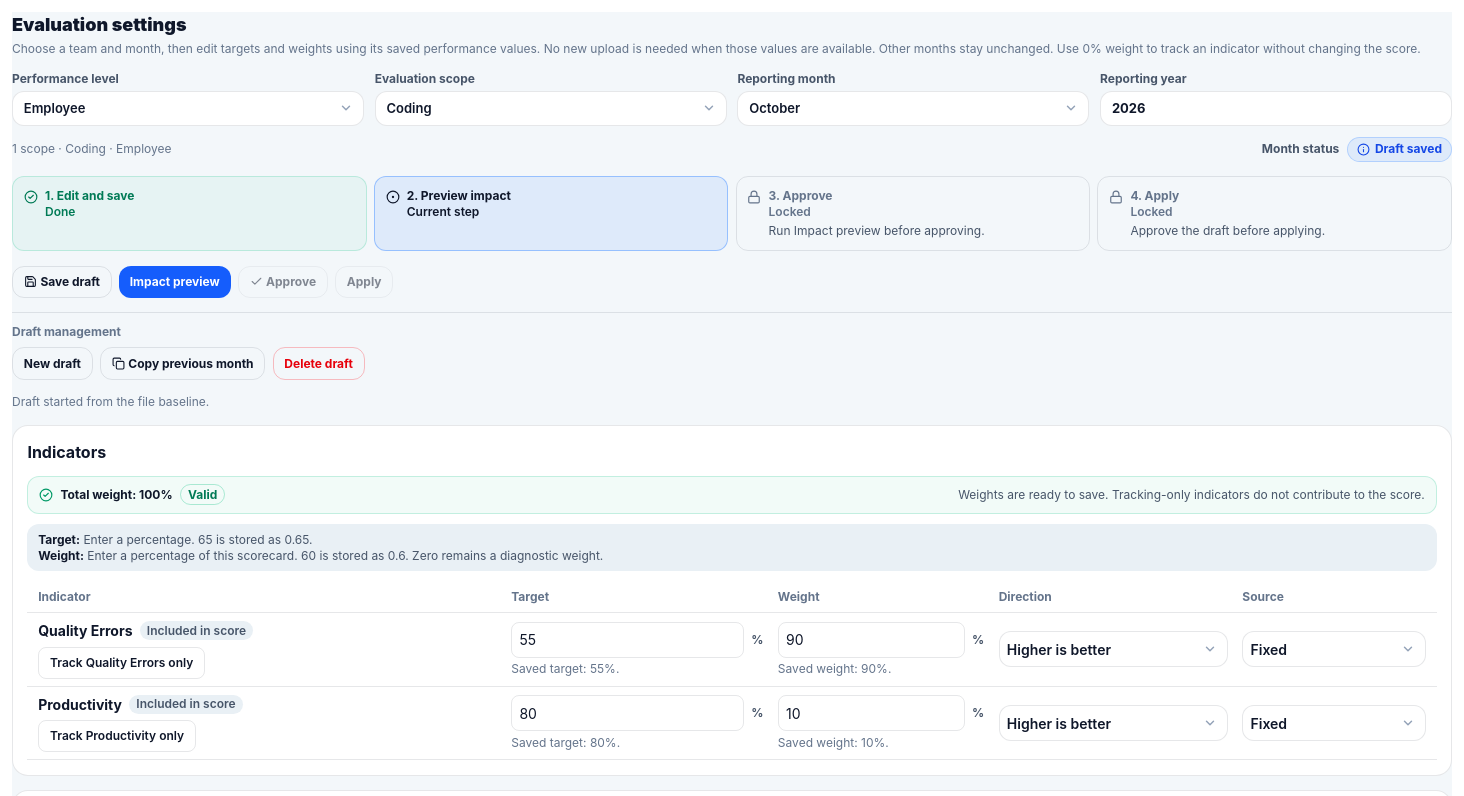
Test case: names missing scored indicators and keeps the saved draft editable after a failed preview
expect the field named "QualityErrors target" is shown: met, box [511,622,744,658]
Click the button "Impact preview": click(175, 282) [119,266,230,298]
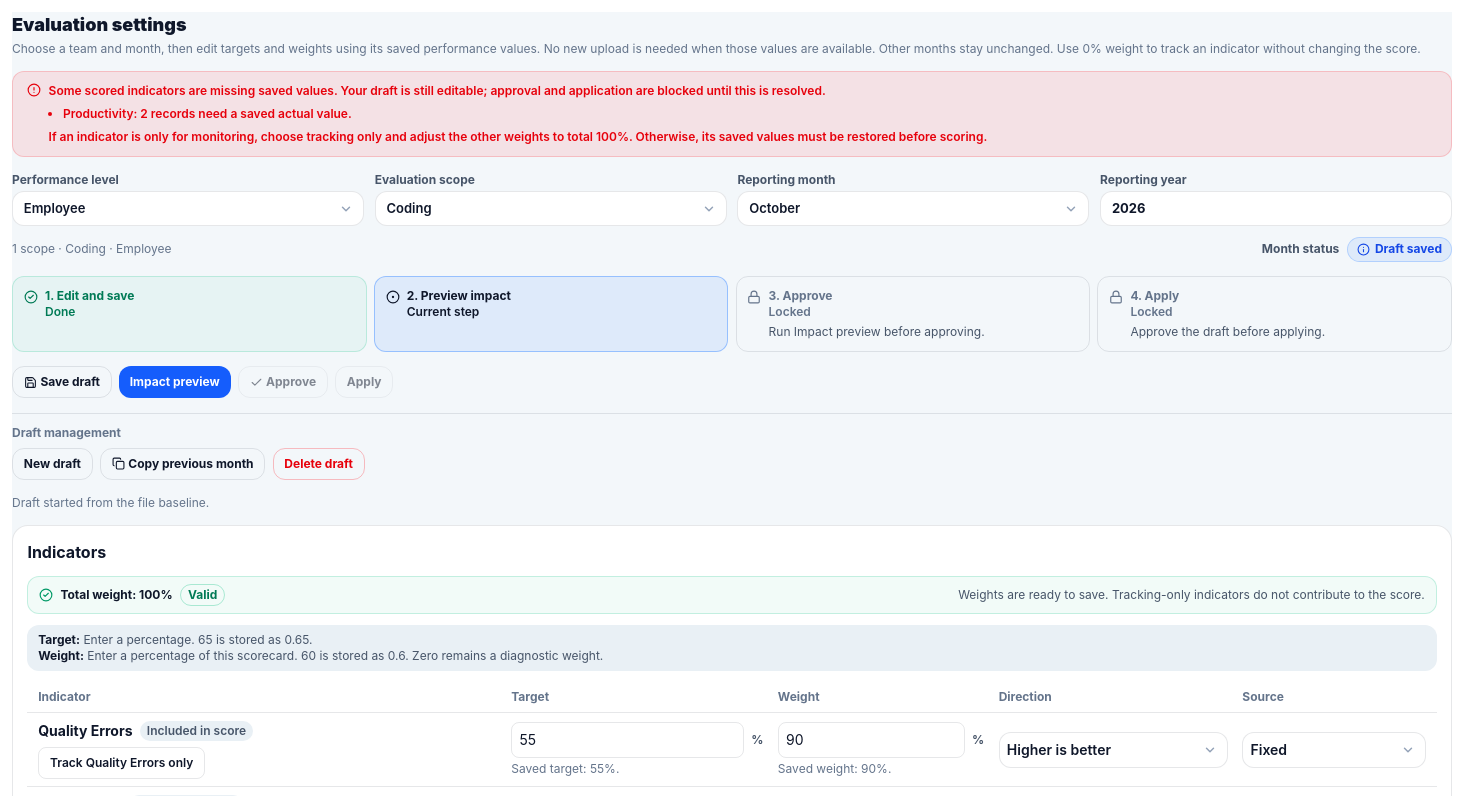
expect the button "Save draft" is enabled: met, box [12,366,112,398]
expect the list item "Productivity: 2 records need a saved actual value." is shown: met, box [63,106,352,121]
expect the text "Your draft is still editable" is shown: met, box [49,83,826,98]
Select "July" in the dropdown labelled "Reporting month": (913, 209) [737,191,1089,226]
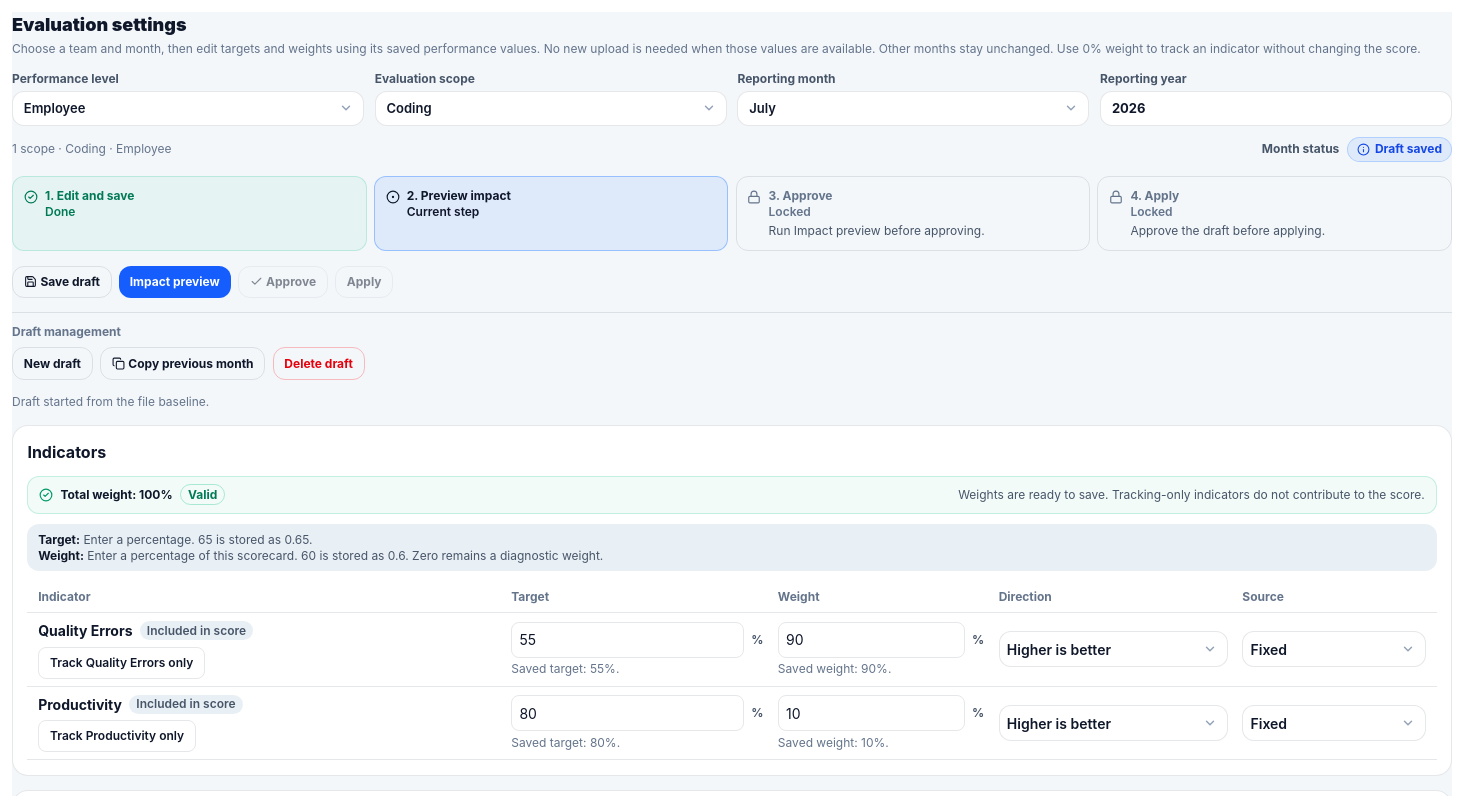
expect the list item "Productivity: 2 records need a saved actual value." is gone: met
